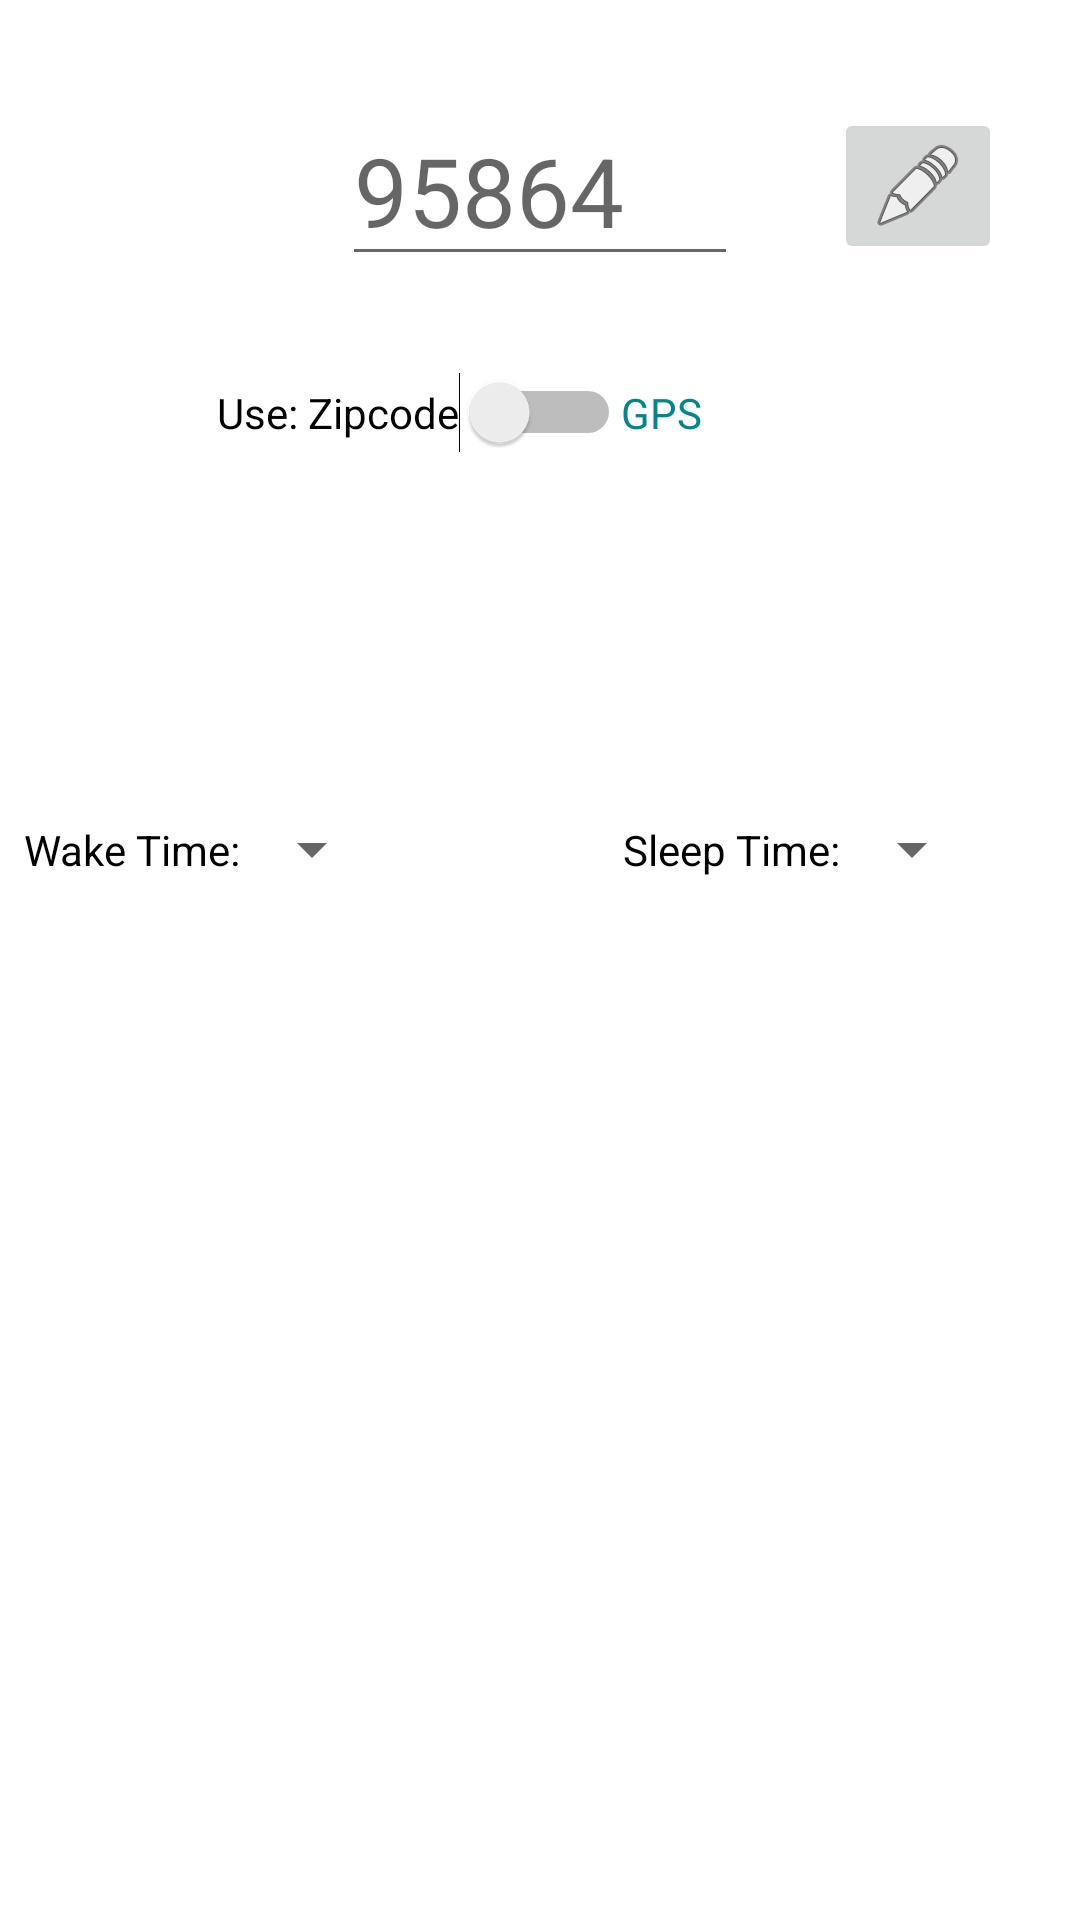

Point at icon controls on the screen. Image size 1080×1920, points as point (x, y).
edit: point (918, 186)
